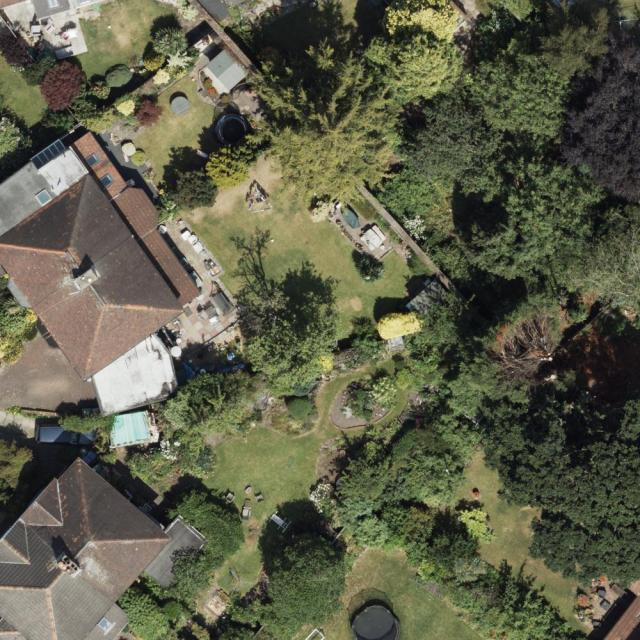roof: (0, 131, 203, 417), (0, 455, 208, 639), (602, 591, 640, 640), (31, 0, 106, 19)
skylight: (31, 138, 68, 169), (35, 188, 53, 206), (96, 173, 114, 190), (83, 152, 100, 170), (98, 618, 113, 634), (47, 0, 61, 10)
